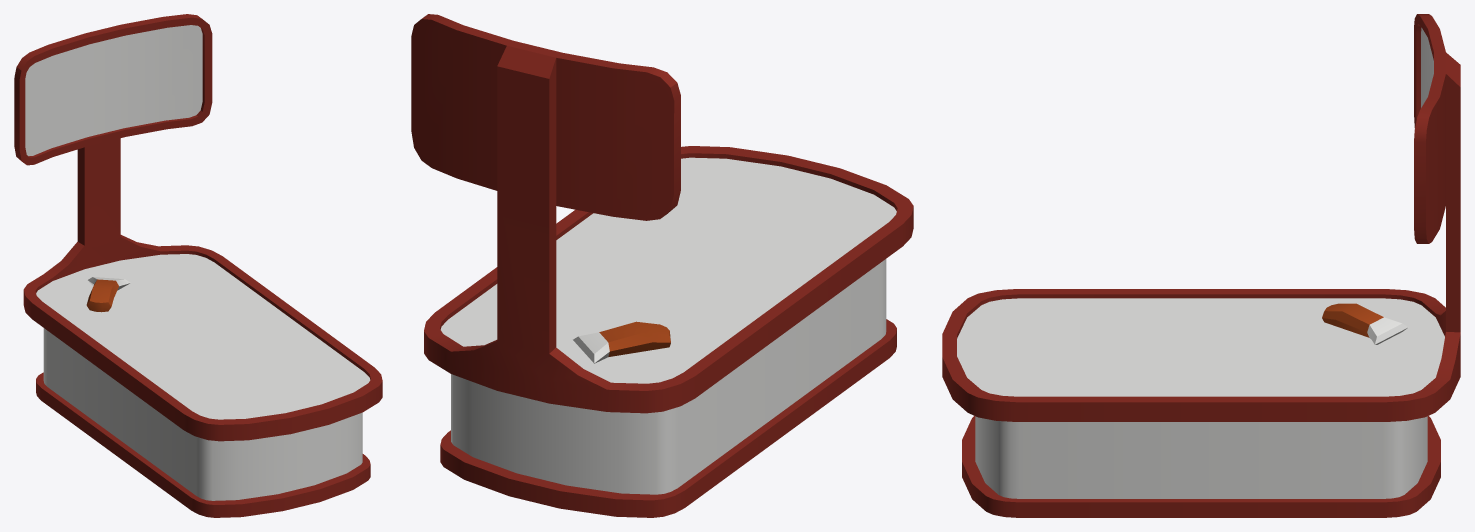
The model's file is SM_Props_Hair_Cutter.fbx.
The picture shows the model from 3 angles, left to right: view 1: azimuth 30°, elevation 25°; view 2: azimuth 150°, elevation 25°; view 3: azimuth 270°, elevation 25°; orthographic projection. The views are drawn at different scales.
Parts seen in each view (by area): view 1: SM_Props_Hair_Cutter; view 2: SM_Props_Hair_Cutter; view 3: SM_Props_Hair_Cutter.
Boxes of the visible parts, x1,y1,x2,y2 form: SM_Props_Hair_Cutter: [14, 14, 382, 517]; SM_Props_Hair_Cutter: [411, 14, 913, 517]; SM_Props_Hair_Cutter: [942, 14, 1460, 517].
Size of the model in its own units: 1.21 by 1.99 by 2.32.
